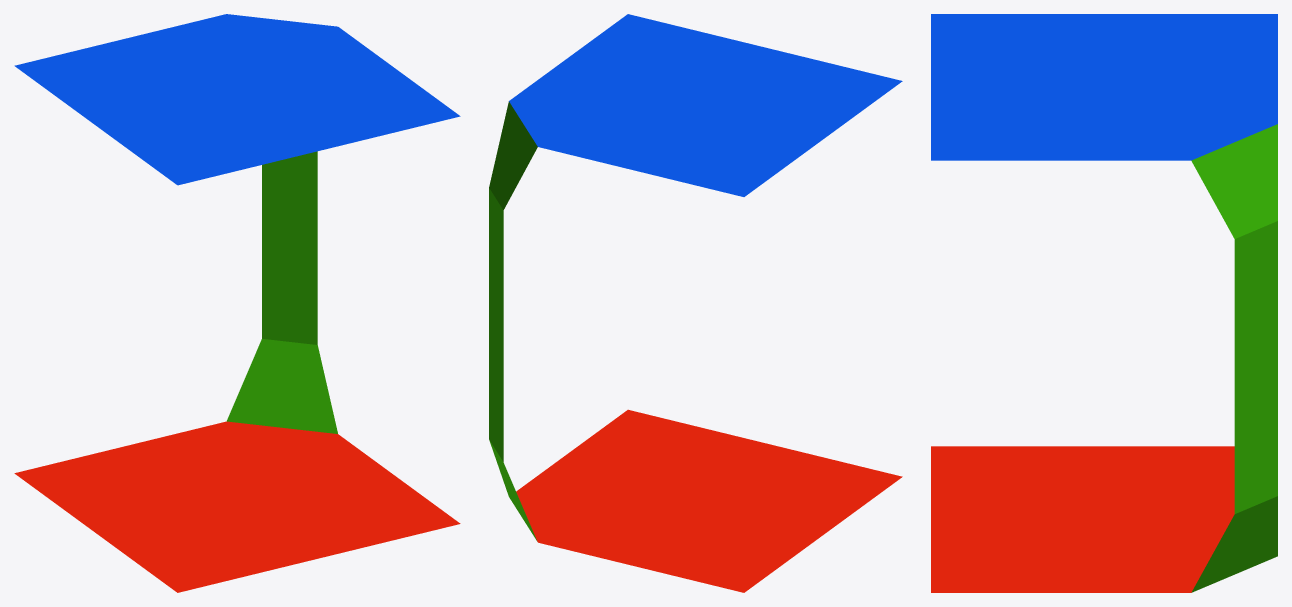
File: inside_corner_angled.FBX
3 renders of one model, left to right at view 1: azimuth 30°, elevation 25°; view 2: azimuth 150°, elevation 25°; view 3: azimuth 270°, elevation 25°, orthographic. The views are drawn at different scales.
Visible parts, largest first — view 1: inner_corner; view 2: inner_corner; view 3: inner_corner.
Part boxes in pixels (box(x1,y1,x2,y2)): inner_corner: box(14, 14, 460, 592); inner_corner: box(489, 14, 902, 592); inner_corner: box(931, 14, 1277, 592).
Size of the model in its own units: 78.74 by 108 by 78.74.
